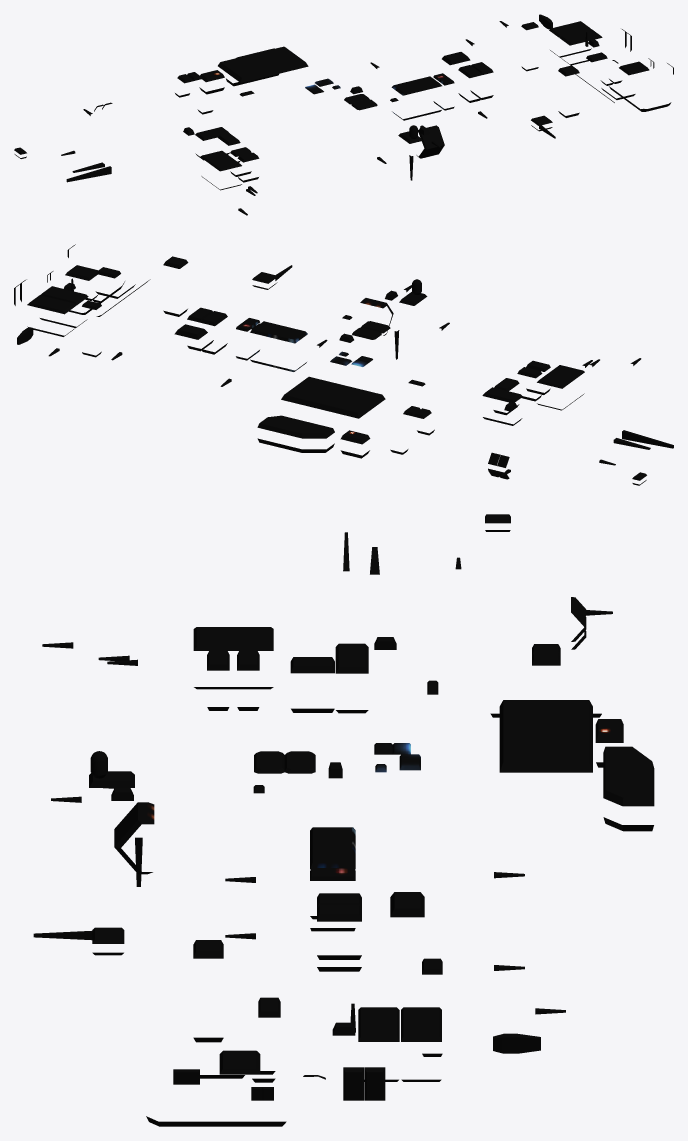
File: hgn_st_outp_04.glb
3 renders of one model, top to bottom at view 1: azimuth 30°, elevation 25°; view 2: azimuth 150°, elevation 25°; view 3: azimuth 270°, elevation 25°, orthographic. The views are drawn at different scales.
Parts seen in each view (by area): view 1: hgn_station_outpost_04_base_LOD0, hgn_station_outpost_04_part_LOD0; view 2: hgn_station_outpost_04_part_LOD0, hgn_station_outpost_04_base_LOD0; view 3: hgn_station_outpost_04_part_LOD0, hgn_station_outpost_04_base_LOD0.
Boxes of the visible parts, x1,y1,x2,y2 form: hgn_station_outpost_04_base_LOD0: (195,21,635,190); hgn_station_outpost_04_part_LOD0: (14,14,673,215); hgn_station_outpost_04_part_LOD0: (14,244,673,485); hgn_station_outpost_04_base_LOD0: (27,256,584,425); hgn_station_outpost_04_part_LOD0: (33,514,654,1126); hgn_station_outpost_04_base_LOD0: (114,627,442,1082).
Size of what is drawn, in the model's own units: 51.84 by 5.47 by 24.16.
2 materials, 2 textured.
